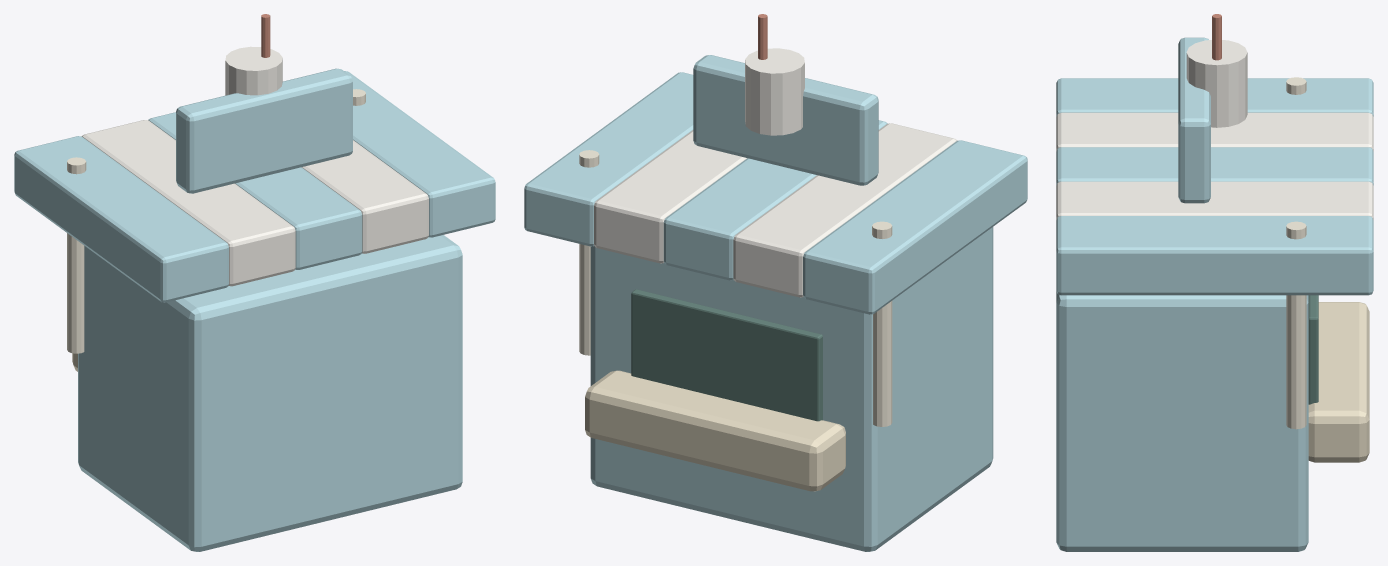
The model's file is drink_stand.glb.
3 views of the same model, side by side, from view 1: azimuth 30°, elevation 25°; view 2: azimuth 150°, elevation 25°; view 3: azimuth 270°, elevation 25° (orthographic). The views are drawn at different scales.
Visible parts, largest first — view 1: counter, awning_stripe_0, menu_sign, awning_stripe_1, awning_stripe_4, awning_stripe_2, awning_stripe_3, drink_cup, awning_post_-0.42; view 2: counter, awning_stripe_0, serving_counter, service_window, menu_sign, awning_stripe_1, awning_stripe_4, awning_stripe_3, awning_stripe_2, drink_cup, awning_post_-0.42, awning_post_0.42; view 3: counter, awning_stripe_4, awning_stripe_3, awning_stripe_2, awning_stripe_1, serving_counter, awning_stripe_0, menu_sign, drink_cup, awning_post_0.42, service_window, drink_straw.
Part boxes in pixels (<box>): counter: <box>78,235,462,551</box>; awning_stripe_0: <box>14,136,228,302</box>; menu_sign: <box>176,68,352,193</box>; awning_stripe_1: <box>81,120,295,286</box>; awning_stripe_4: <box>344,71,495,237</box>; awning_stripe_2: <box>148,112,362,269</box>; awning_stripe_3: <box>301,140,428,253</box>; drink_cup: <box>225,46,282,95</box>; awning_post_-0.42: <box>67,157,86,353</box>; counter: <box>590,227,993,551</box>; awning_stripe_0: <box>803,140,1027,314</box>; serving_counter: <box>585,370,845,491</box>; service_window: <box>631,289,822,421</box>; menu_sign: <box>693,55,878,185</box>; awning_stripe_1: <box>733,123,957,297</box>; awning_stripe_4: <box>524,72,693,246</box>; awning_stripe_3: <box>594,130,746,263</box>; awning_stripe_2: <box>663,120,887,280</box>; drink_cup: <box>745,48,804,135</box>; awning_post_-0.42: <box>872,221,892,426</box>; awning_post_0.42: <box>579,150,599,355</box>; counter: <box>1056,291,1308,551</box>; awning_stripe_4: <box>1056,216,1373,295</box>; awning_stripe_3: <box>1056,181,1373,219</box>; awning_stripe_2: <box>1056,147,1373,185</box>; awning_stripe_1: <box>1056,112,1373,151</box>; serving_counter: <box>1308,302,1369,462</box>; awning_stripe_0: <box>1056,78,1373,116</box>; menu_sign: <box>1178,37,1210,203</box>; drink_cup: <box>1186,40,1247,127</box>; awning_post_0.42: <box>1286,221,1306,429</box>; service_window: <box>1308,295,1318,404</box>; drink_straw: <box>1212,14,1221,60</box>.
Size of the model in its own units: 1.01 by 1.29 by 0.78.
